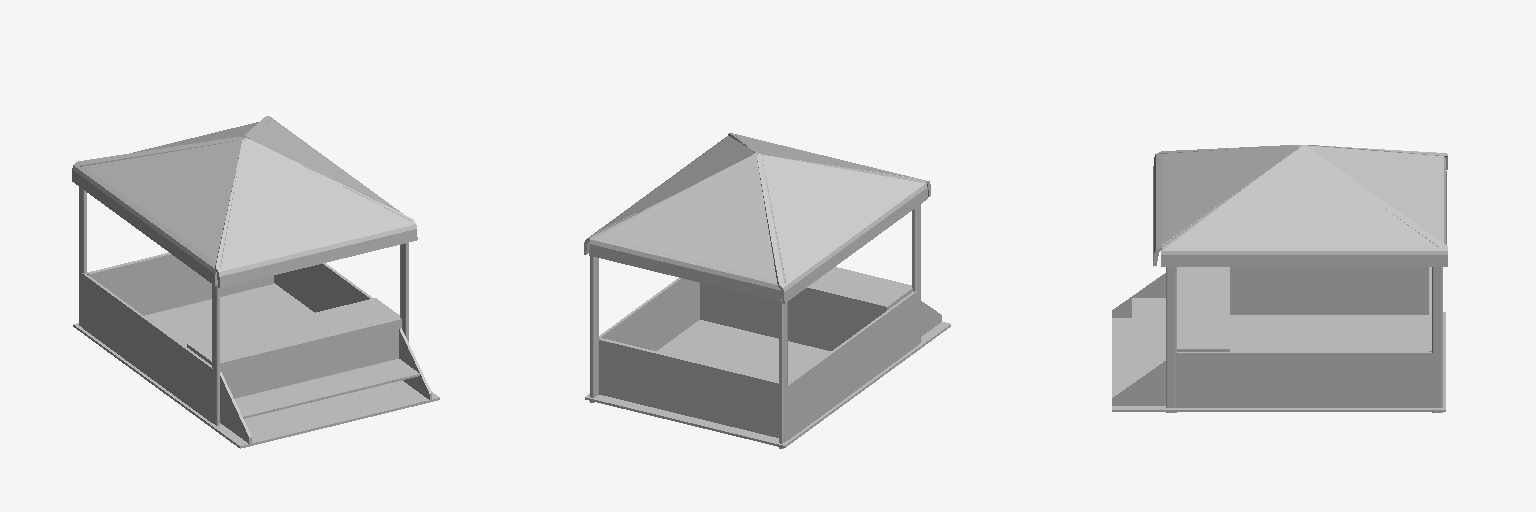
The model's file is stall1obj.obj.
The picture shows the model from 3 angles: view 1: azimuth 30°, elevation 25°; view 2: azimuth 150°, elevation 25°; view 3: azimuth 270°, elevation 25°; orthographic projection.
Parts seen in each view (by area): view 1: Cube.016_Cube.021; view 2: Cube.016_Cube.021; view 3: Cube.016_Cube.021.
Boxes of the visible parts, box(x1,y1,x2,y2) form: Cube.016_Cube.021: box(72, 116, 439, 448); Cube.016_Cube.021: box(584, 133, 950, 448); Cube.016_Cube.021: box(1112, 145, 1447, 412).
Size of the model in its own units: 3.33 by 3.49 by 4.81.